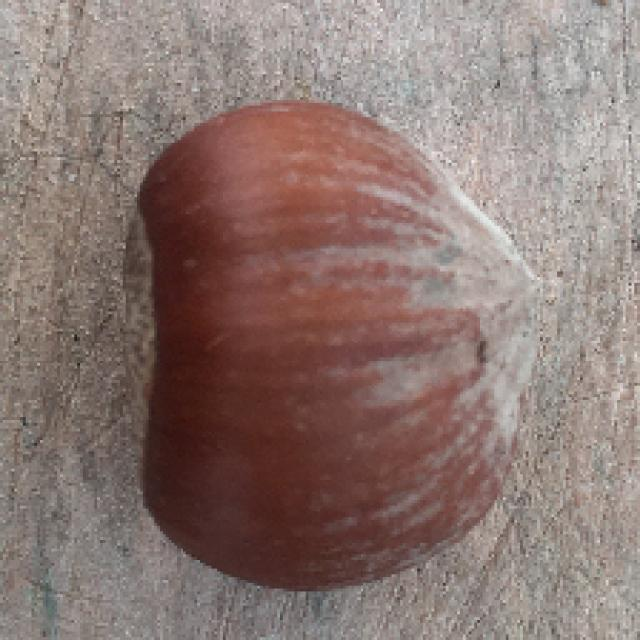DamagedHazelnut: (116, 97, 550, 590)
